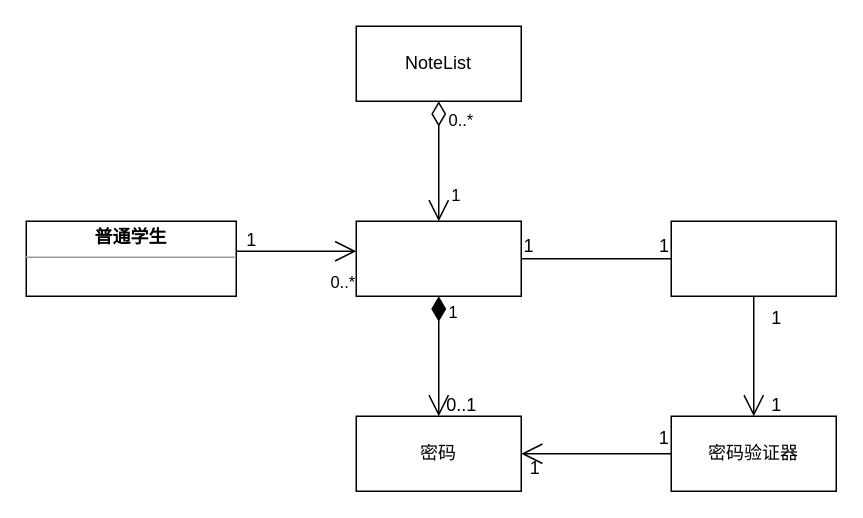
This 863x518 diagram has some shape labels left out. The shapes that lost their labels are listed below. From the top down, each one's centre as x and y in pixels, then its label:
the point at 438,258: Note
the point at 753,258: NoteEditActivity
